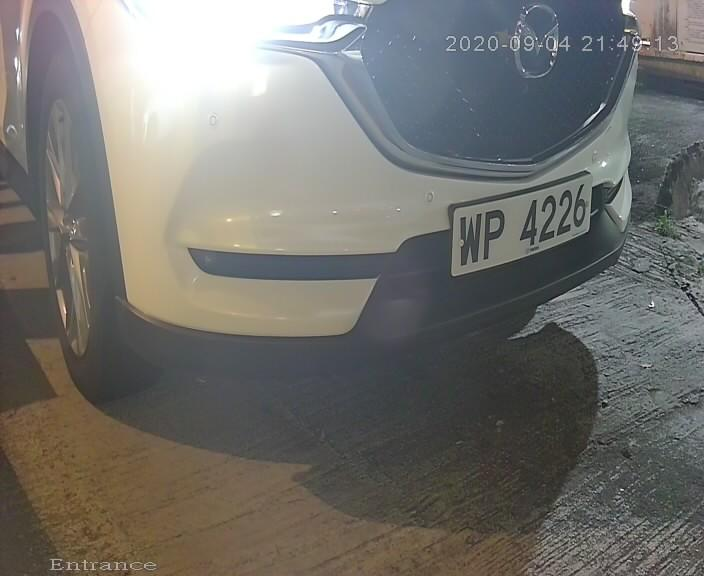License Plate: (437, 152, 598, 296)
